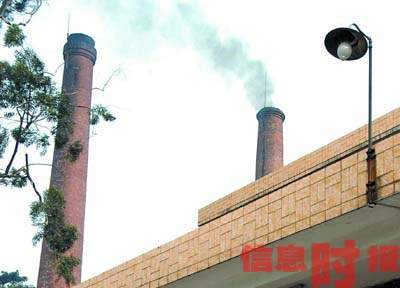dust: (183, 26, 290, 121)
